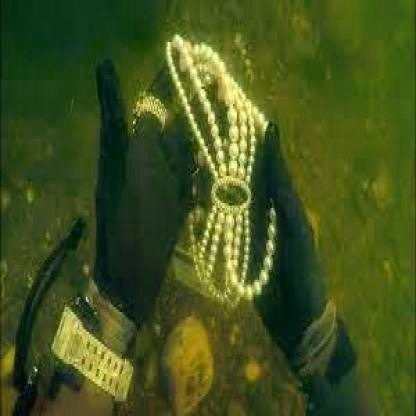misc: (172, 32, 277, 310)
